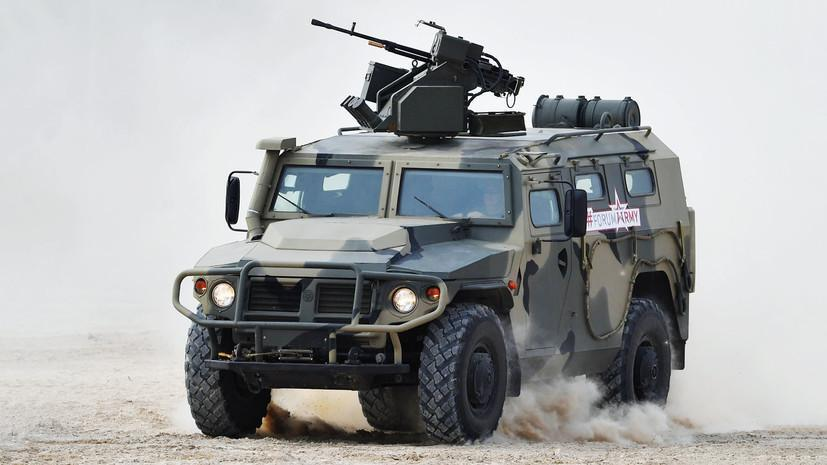armored_car: (174, 16, 697, 452)
